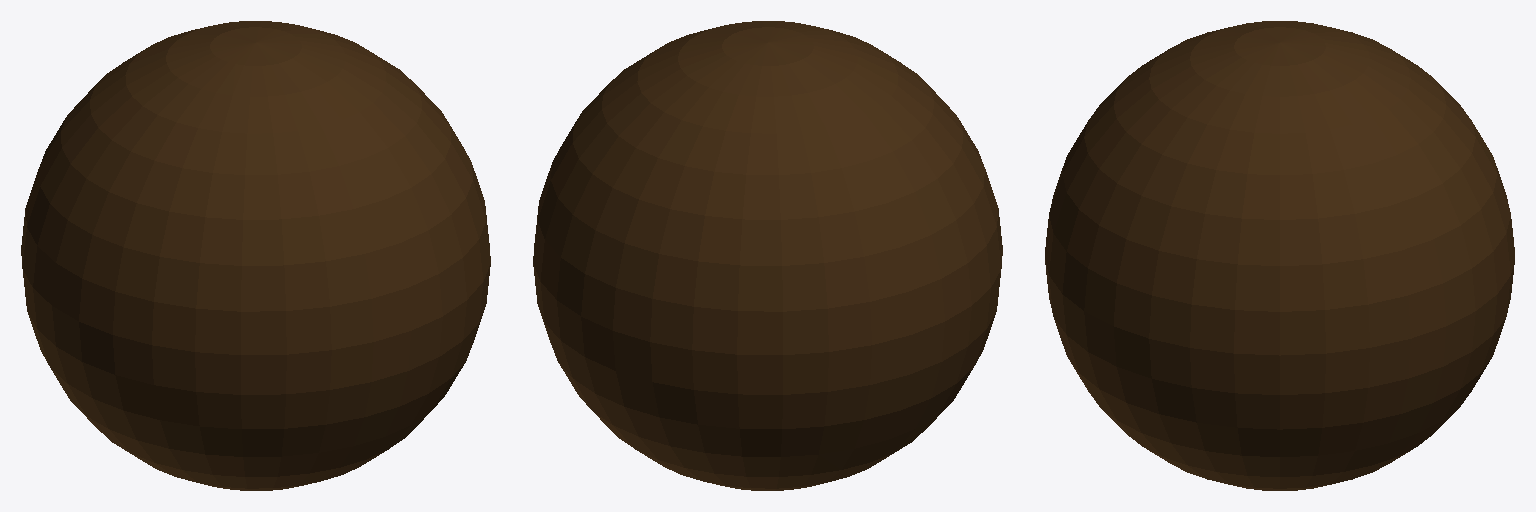
File: ball.obj
3 views of the same model, side by side, from view 1: azimuth 30°, elevation 25°; view 2: azimuth 150°, elevation 25°; view 3: azimuth 270°, elevation 25° (orthographic).
Parts seen in each view (by area): view 1: Sphere; view 2: Sphere; view 3: Sphere.
Boxes of the visible parts, x1,y1,x2,y2 form: Sphere: [21, 21, 490, 490]; Sphere: [533, 21, 1002, 490]; Sphere: [1045, 21, 1514, 490].
Bounding box in the file's own units: 0.5 × 0.5 × 0.5.